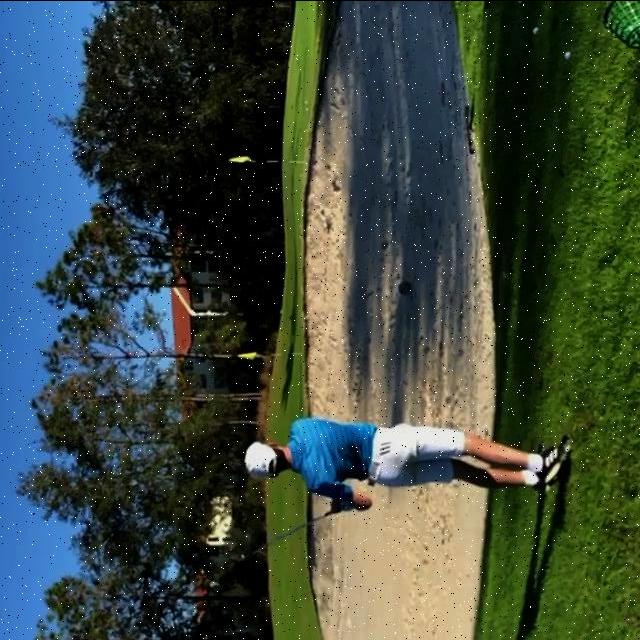ClubHandle: (236, 505, 341, 561)
ClubHead: (239, 551, 245, 559)
GolfBall: (562, 48, 572, 58), (531, 25, 540, 32)
